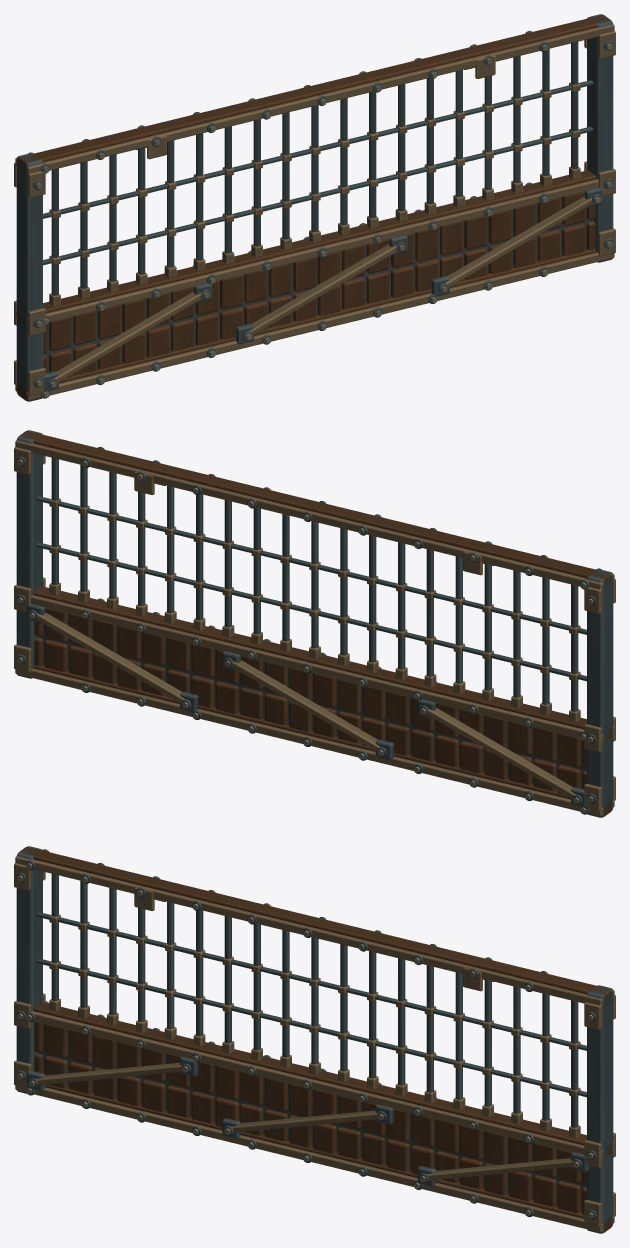
Rendered from sluice_leaf_18.glb.
The picture shows the model from 3 angles, top to bottom: view 1: azimuth 30°, elevation 25°; view 2: azimuth 150°, elevation 25°; view 3: azimuth 330°, elevation 25°; orthographic projection.
Parts seen in each view (by area): view 1: sluice_leaf_18; view 2: sluice_leaf_18; view 3: sluice_leaf_18.
Part boxes in pixels (x1,y1,x2,y2): sluice_leaf_18: (14, 14, 615, 401); sluice_leaf_18: (14, 430, 615, 817); sluice_leaf_18: (14, 846, 615, 1233).
Size of the model in its own units: 18 by 7 by 1.21.
Materials: 4 (1 with a texture image).
